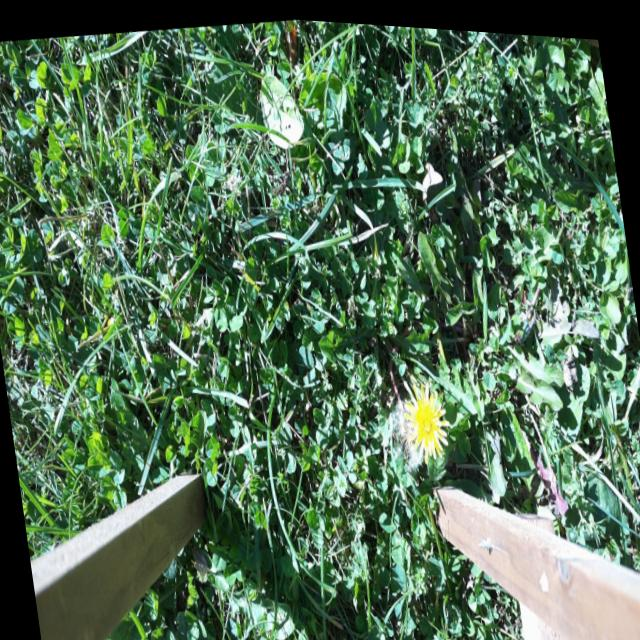base: (384, 328, 408, 357)
